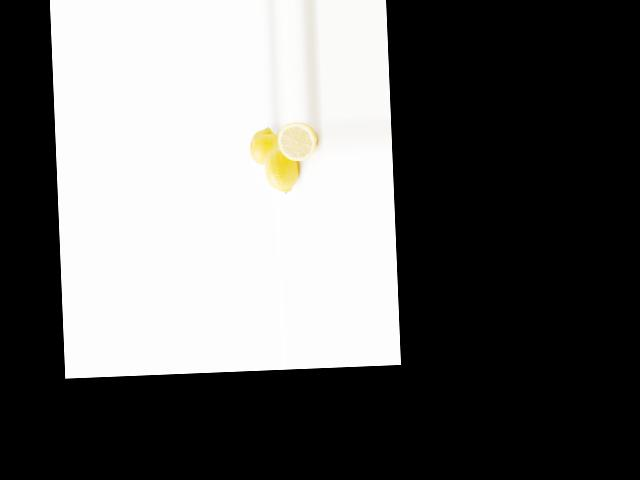lemon: (247, 124, 280, 168)
